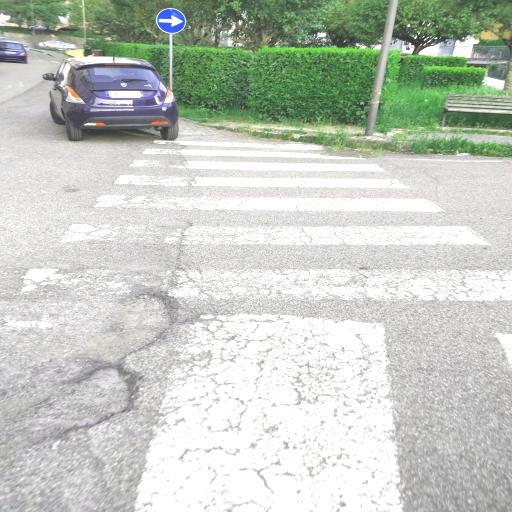crosswalk: (55, 194, 496, 246), (127, 146, 392, 174)
